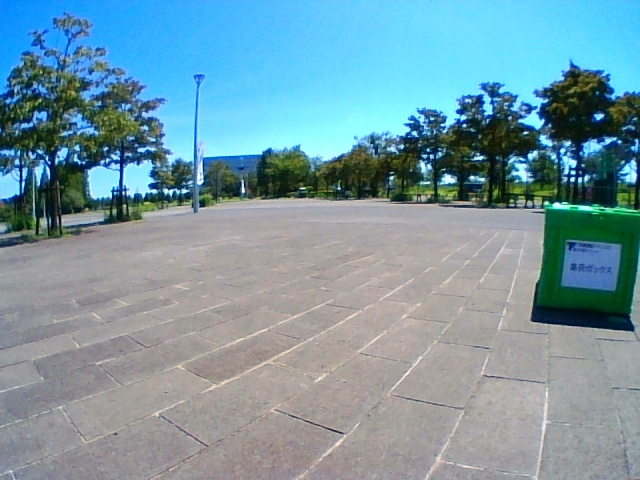green_box: (541, 200, 638, 315)
